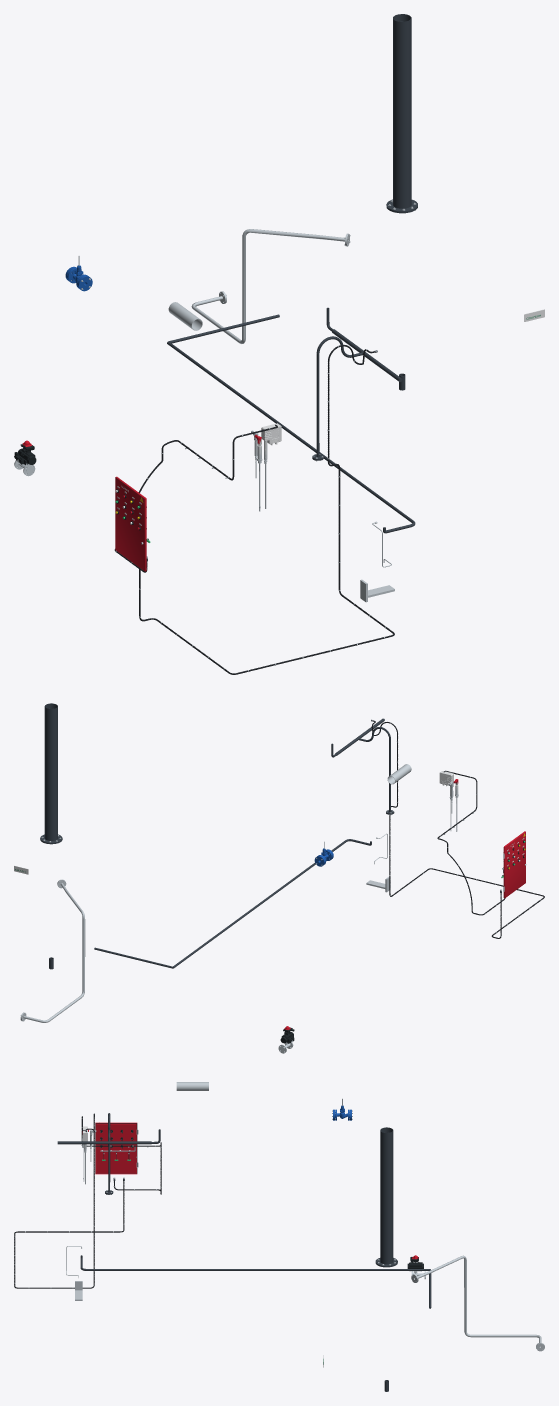
File: s4000-4-RWxZrWac.glb
3 views of the same model, one above another, from view 1: azimuth 30°, elevation 25°; view 2: azimuth 150°, elevation 25°; view 3: azimuth 270°, elevation 25° (orthographic). The views are drawn at different scales.
Visible parts, largest first — view 1: bdv_vent / dark, cabinet_door / cabinet_door_5.npz, wiring_pressure_switch_2 / black, trap_gap_to_bdv / steel, tds_common / dark, pressure_header / dark; view 2: bdv_vent / dark, cabinet_door / cabinet_door_5.npz, wiring_pressure_switch_2 / black, trap_gap_to_bdv / steel, tds_common / dark, pressure_header / dark; view 3: cabinet_door / cabinet_door_5.npz, bdv_vent / dark, wiring_pressure_switch_2 / black, trap_gap_to_bdv / steel, tds_common / dark, pressure_header / dark, wiring_lcs600 / black.
Boxes of the visible parts, x1,y1,x2,y2 form: bdv_vent / dark: [386, 14, 417, 213]; cabinet_door / cabinet_door_5.npz: [115, 476, 146, 571]; wiring_pressure_switch_2 / black: [139, 345, 394, 674]; trap_gap_to_bdv / steel: [191, 229, 350, 343]; tds_common / dark: [167, 341, 415, 533]; pressure_header / dark: [312, 307, 402, 460]; bdv_vent / dark: [40, 703, 62, 844]; cabinet_door / cabinet_door_5.npz: [503, 831, 526, 898]; wiring_pressure_switch_2 / black: [371, 720, 544, 938]; trap_gap_to_bdv / steel: [20, 879, 85, 1022]; tds_common / dark: [173, 839, 371, 968]; pressure_header / dark: [331, 718, 394, 814]; cabinet_door / cabinet_door_5.npz: [95, 1122, 138, 1174]; bdv_vent / dark: [375, 1127, 397, 1267]; wiring_pressure_switch_2 / black: [14, 1113, 124, 1288]; trap_gap_to_bdv / steel: [411, 1255, 544, 1351]; tds_common / dark: [80, 1255, 429, 1270]; pressure_header / dark: [57, 1113, 160, 1194]; wiring_lcs600 / black: [81, 1116, 161, 1194].
Bounding box in the file's own units: 5.82 × 3.78 × 6.74.
